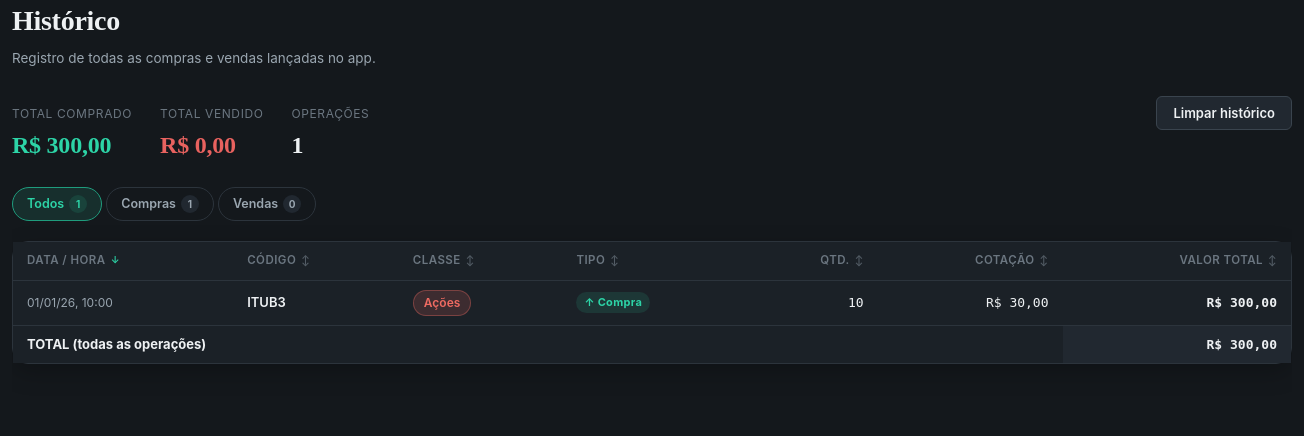
Test: Historico — botão Limpar histórico (padrão de confirmação dupla) › segundo clique confirma e apaga o histórico
What coordinates should you click on to do the following:
click the button "Limpar histórico"
I would click on:
 (1224, 113)
Its box is [1156, 96, 1292, 130].
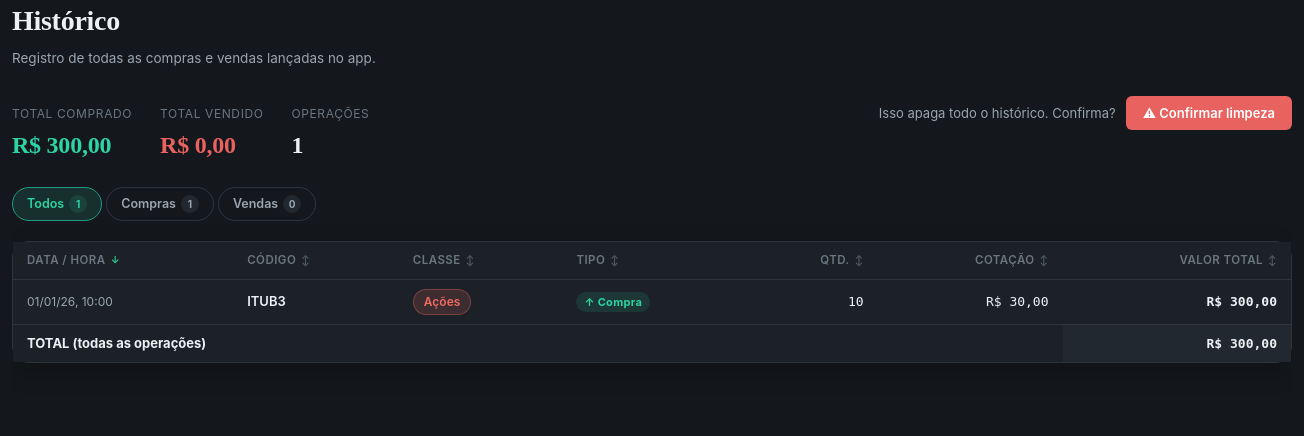
What coordinates should you click on to do the following:
click the button "⚠ Confirmar limpeza"
I would click on:
 (1209, 113)
Its box is [1126, 96, 1292, 130].
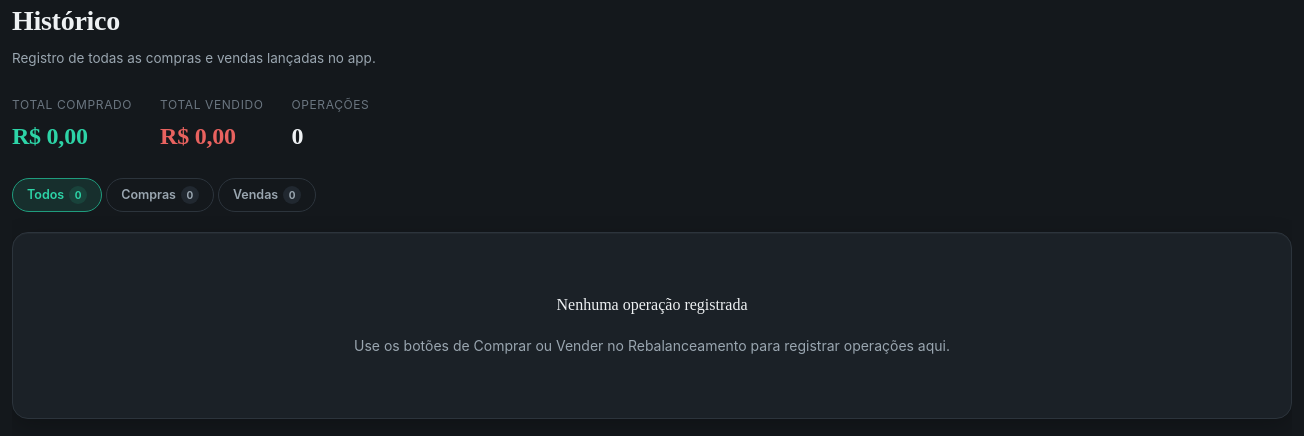
Result: the text "ITUB3" is gone
Result: the text "Nenhuma operação registrada" is shown at [556, 293, 748, 317]
Result: the button "⚠ Confirmar limpeza" is gone
